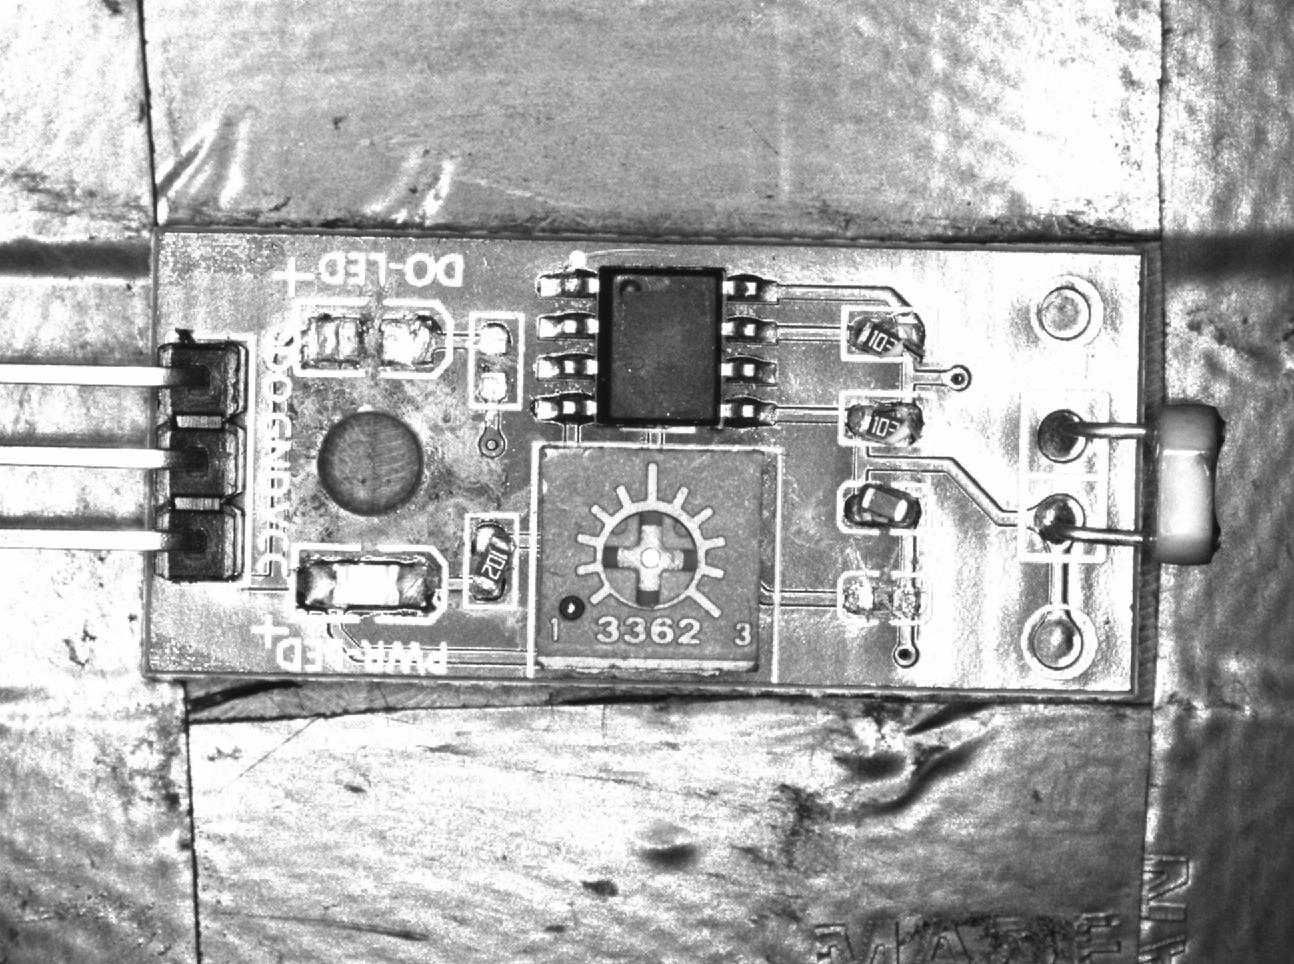lifted: (841, 392, 932, 450), (838, 480, 931, 535), (466, 514, 518, 608), (843, 308, 919, 364)
miss: (470, 311, 524, 411), (836, 571, 931, 625)
